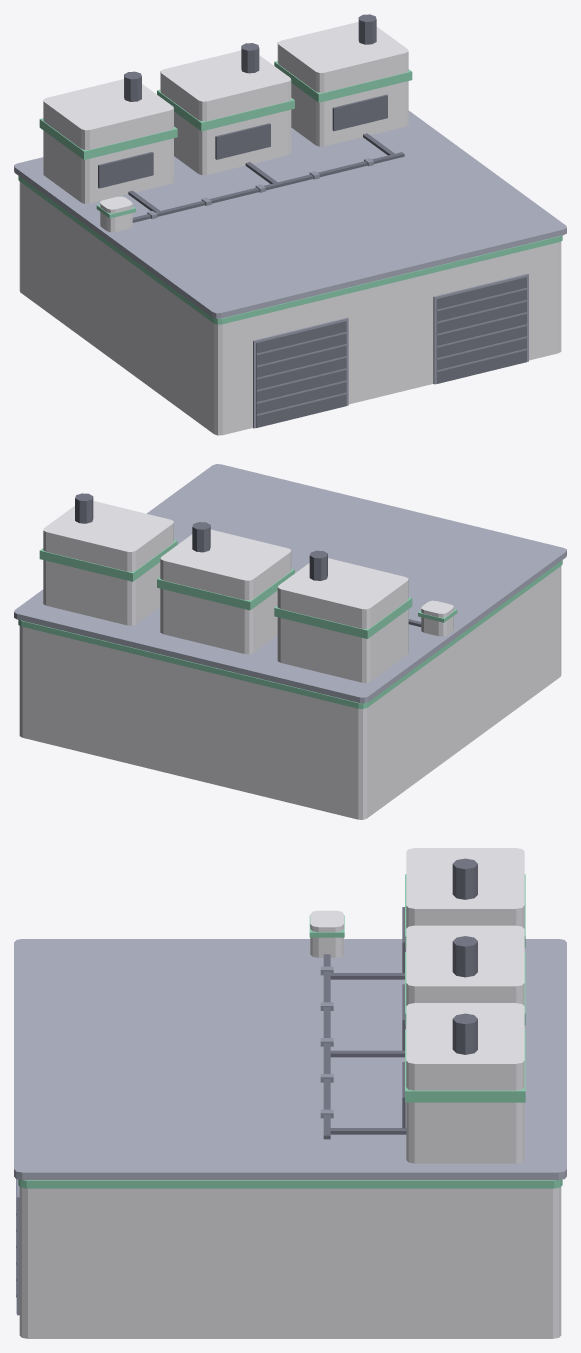
The model's file is backup-2x2-t3.glb.
3 views of the same model, one above another, from view 1: azimuth 30°, elevation 25°; view 2: azimuth 150°, elevation 25°; view 3: azimuth 270°, elevation 25° (orthographic). The views are drawn at different scales.
Visible parts, largest first — view 1: backup-2x2-t3; view 2: backup-2x2-t3; view 3: backup-2x2-t3.
Boxes of the visible parts, <box> form: backup-2x2-t3: <box>14,14,566,435</box>; backup-2x2-t3: <box>14,464,566,819</box>; backup-2x2-t3: <box>14,848,566,1338</box>.
Bounding box in the file's own units: 1.96 × 1.17 × 1.96.
1 material, 1 textured.
